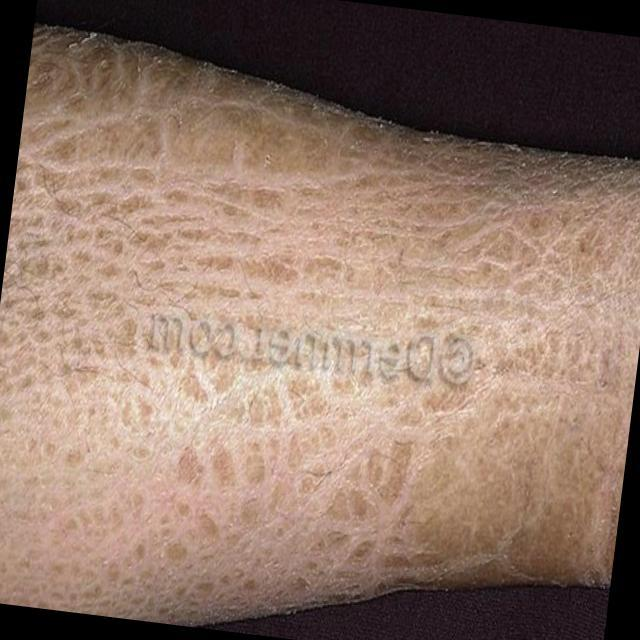Eczema: (14, 42, 640, 591)
